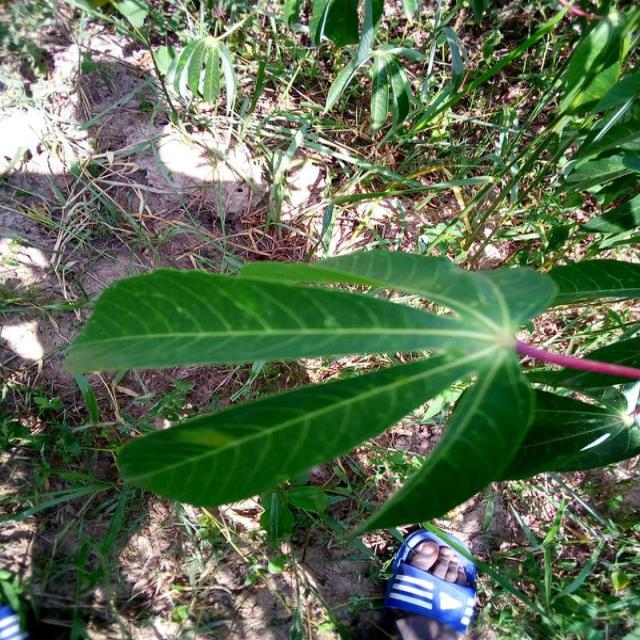cassava leaf: (62, 248, 638, 536)
